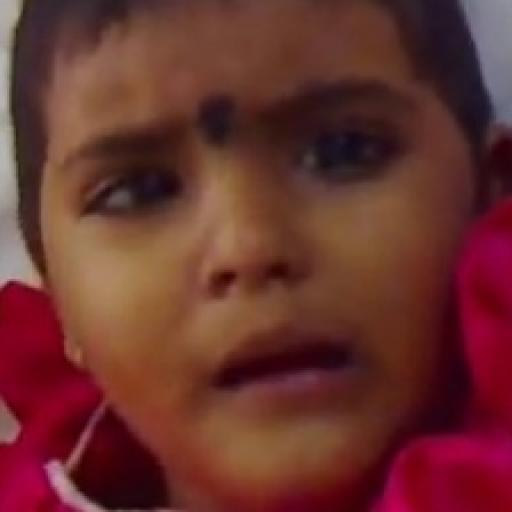Autism: (44, 22, 512, 498)
